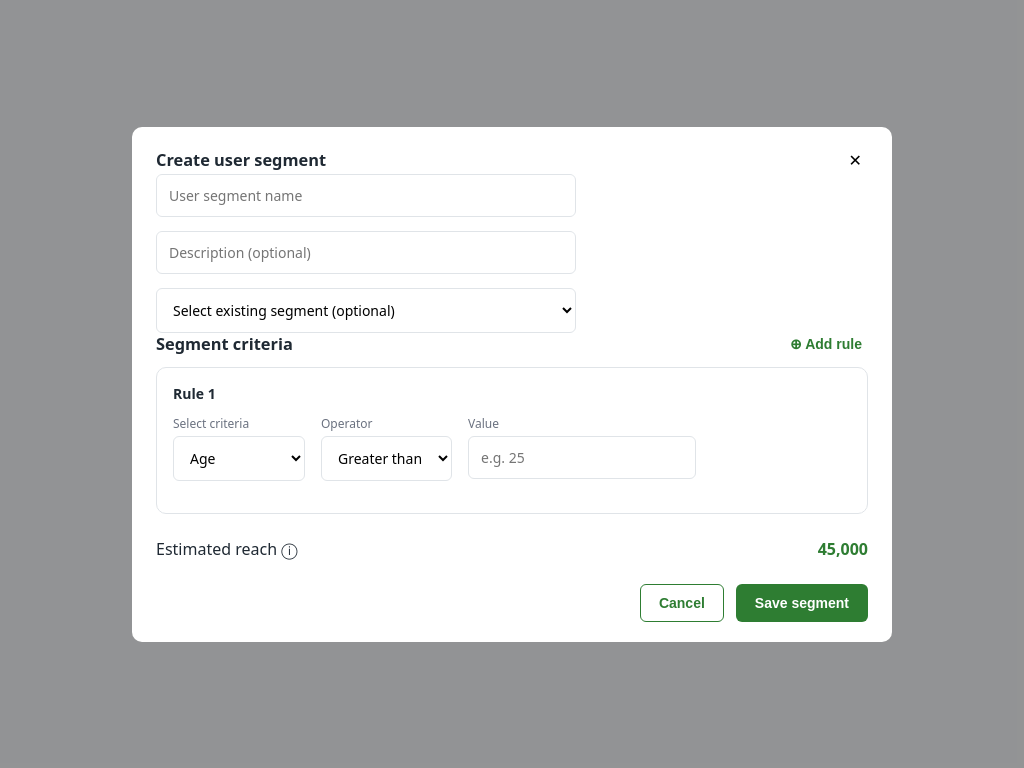
Test: shows validation and does not create when name is empty
Type "30" into the field with placeholder "e.g. 25" at [582, 457], box [468,436,696,478]
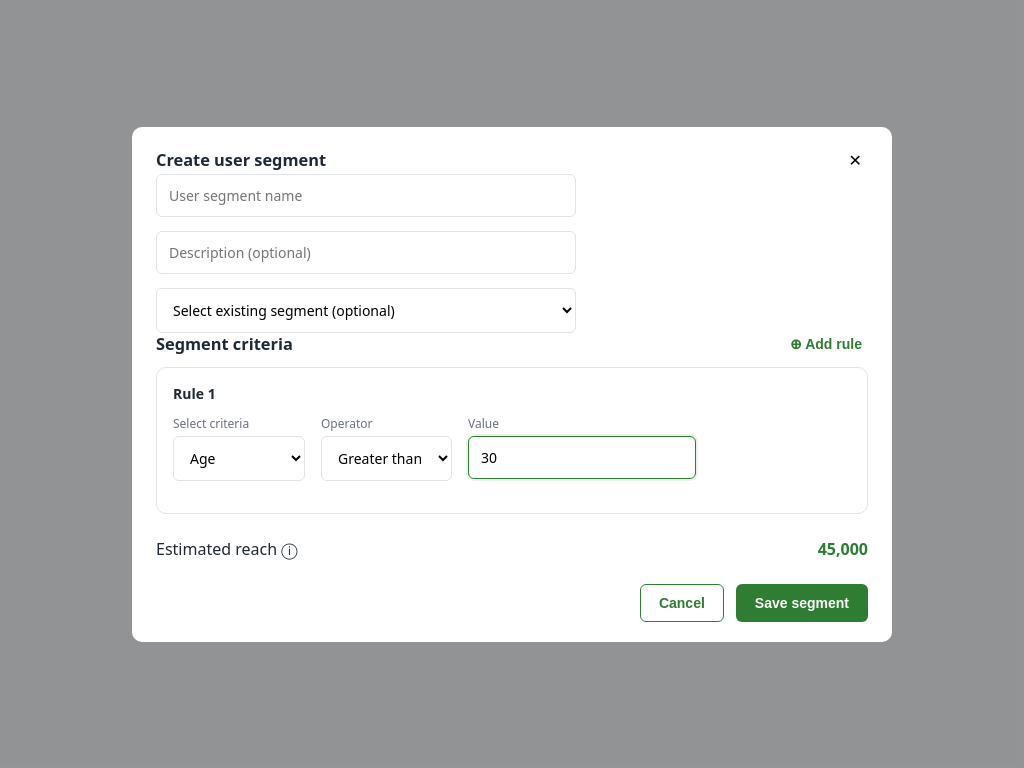
Click the button "Save segment" at [802, 602], box [736,584,868,622]
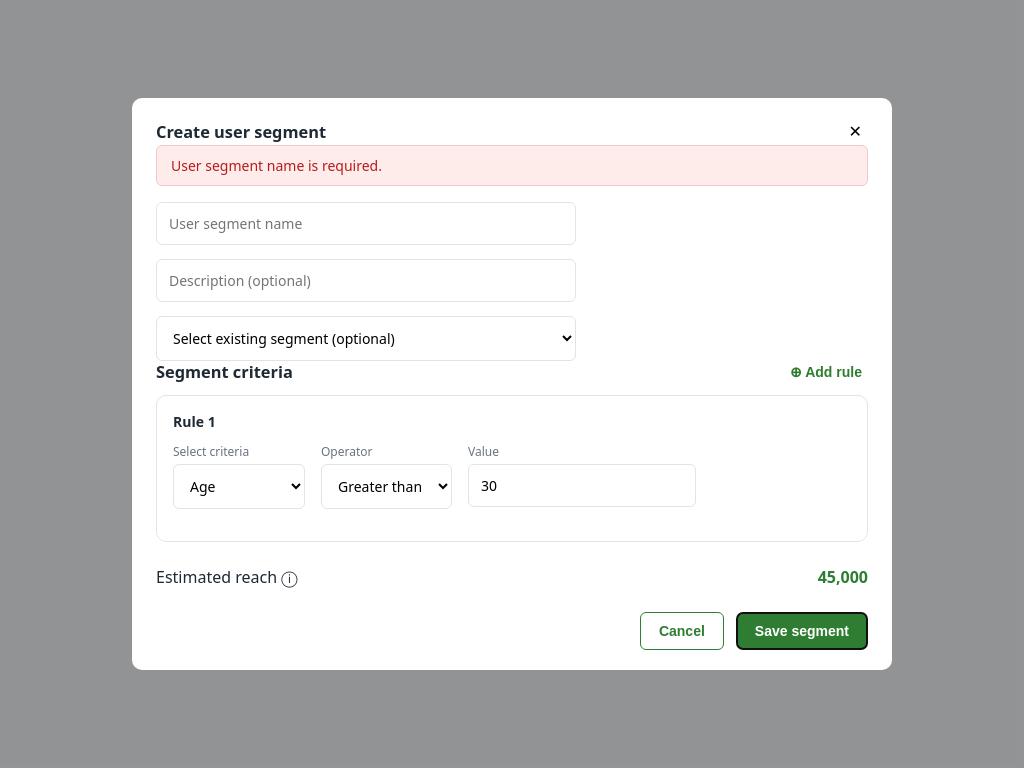
Expected: the text "User segment name is required." is shown, [156,145,868,186]
